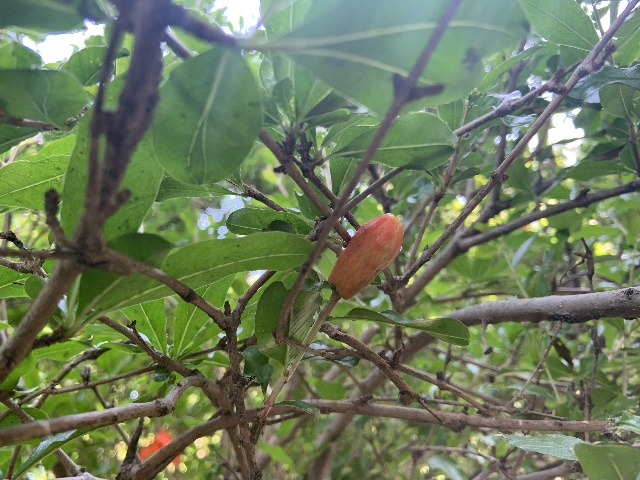bud: (329, 211, 403, 300)
